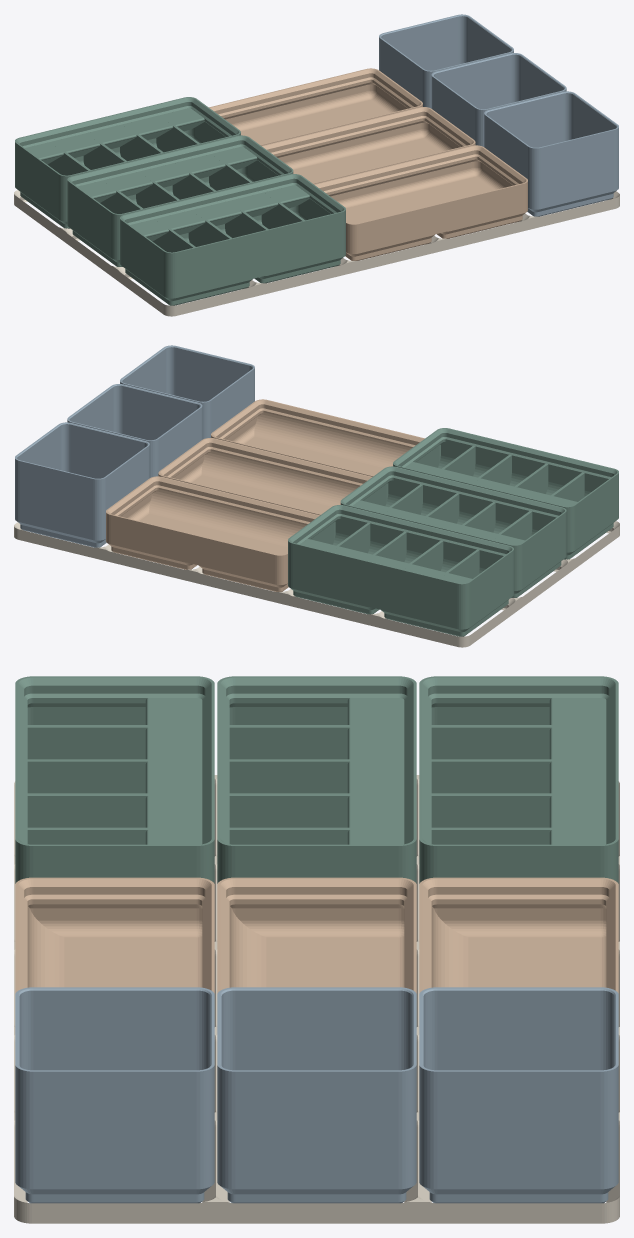
3 renders of one model, top to bottom at view 1: azimuth 30°, elevation 25°; view 2: azimuth 150°, elevation 25°; view 3: azimuth 270°, elevation 25°, orthographic. The views are drawn at different scales.
Size of the model in its own units: 0.21 by 0.0348 by 0.126.
